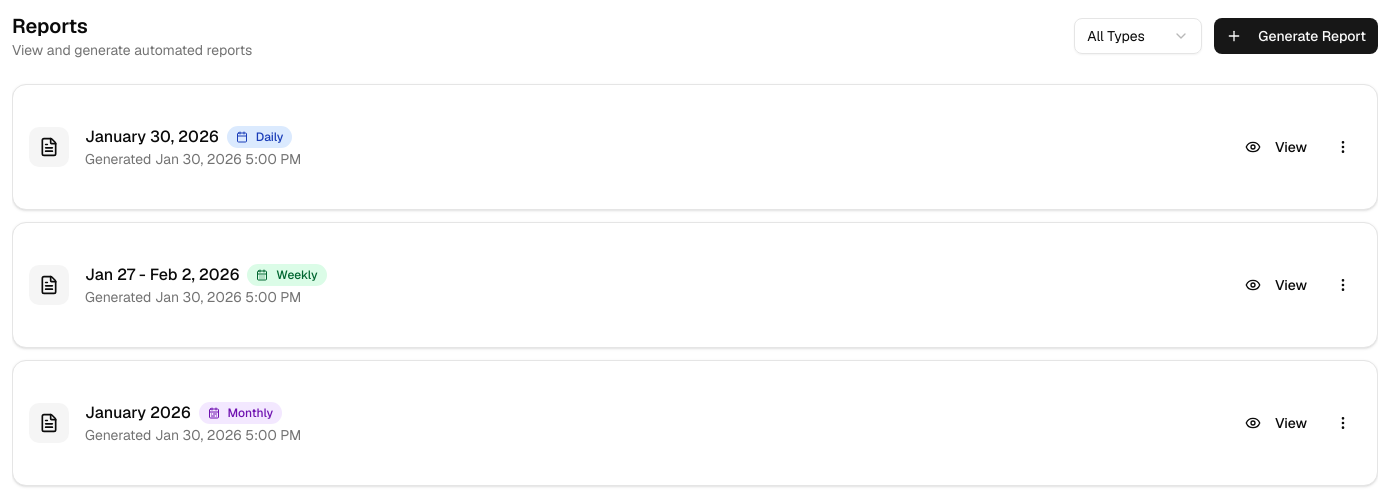
Test case: 3.3 Automated Reports › Generate report button works
Click the button with test id "generate-report-button" at (1296, 36), box [1214,18,1378,54]
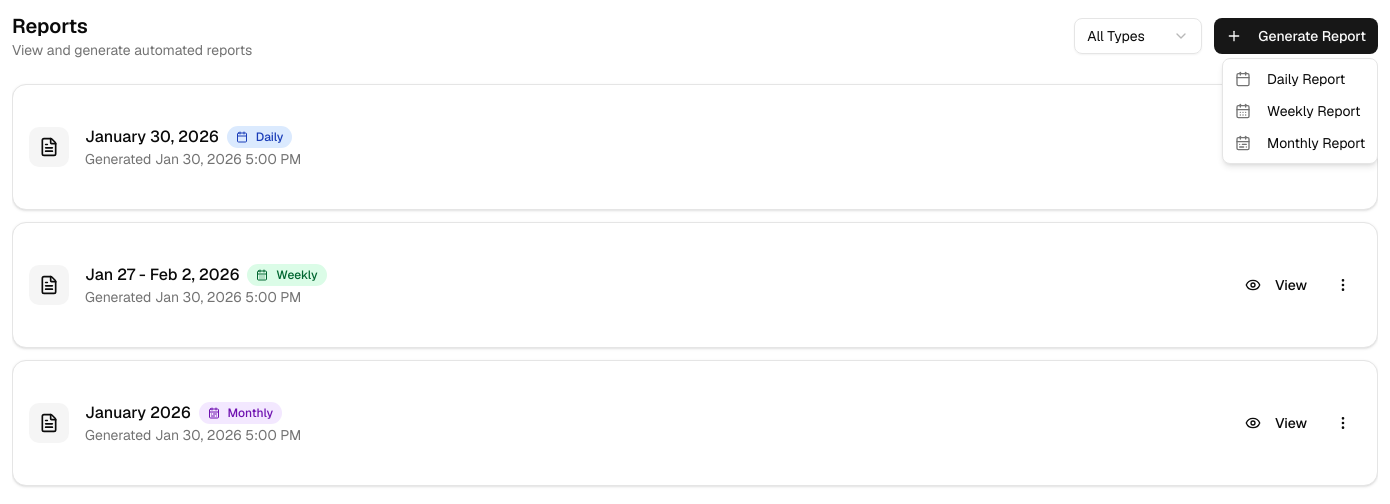
Result: the menu item with test id "generate-daily" is shown at [1235,70,1345,88]
Result: the menu item with test id "generate-weekly" is shown at [1235,102,1360,120]
Result: the menu item with test id "generate-monthly" is shown at [1235,134,1365,152]
